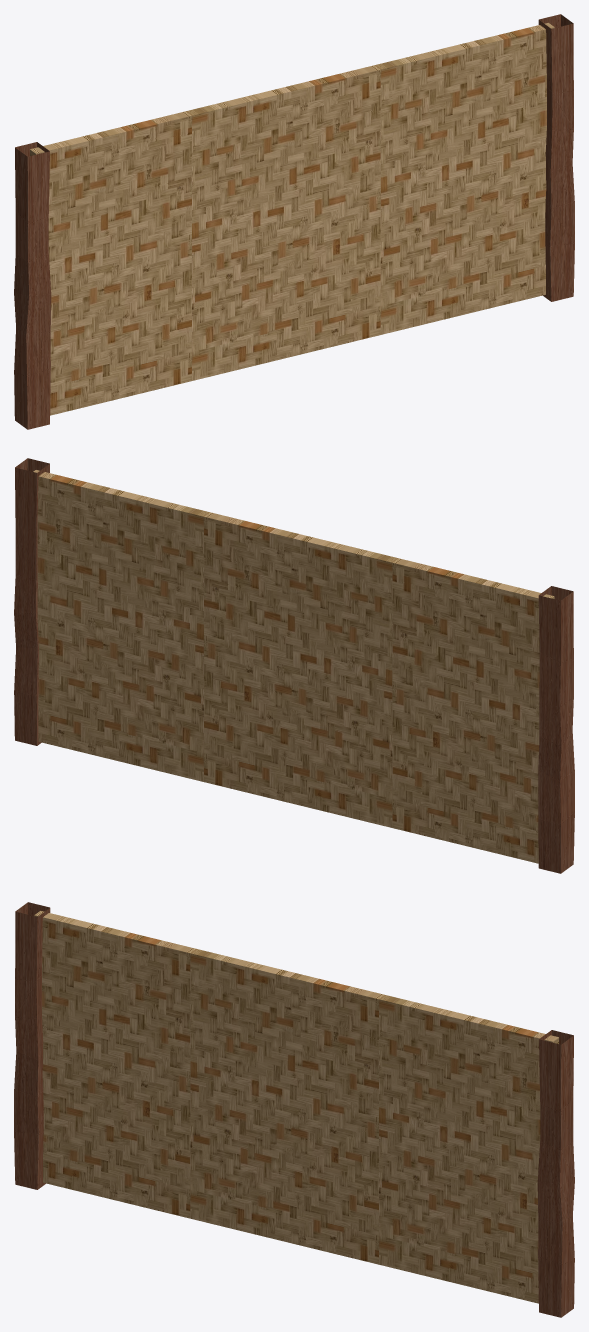
The model's file is R2_Belakang.fbx.
3 views of the same model, one above another, from view 1: azimuth 30°, elevation 25°; view 2: azimuth 150°, elevation 25°; view 3: azimuth 330°, elevation 25° (orthographic).
Parts seen in each view (by area): view 1: Cube.172; view 2: Cube.172; view 3: Cube.172.
Boxes of the visible parts, left/top/right/bottom form: Cube.172: left=14, top=14, right=574, bottom=429; Cube.172: left=14, top=458, right=574, bottom=873; Cube.172: left=14, top=902, right=574, bottom=1317.
Size of the model in its own units: 15.54 by 7.39 by 0.6641.
2 materials, 2 textured.
